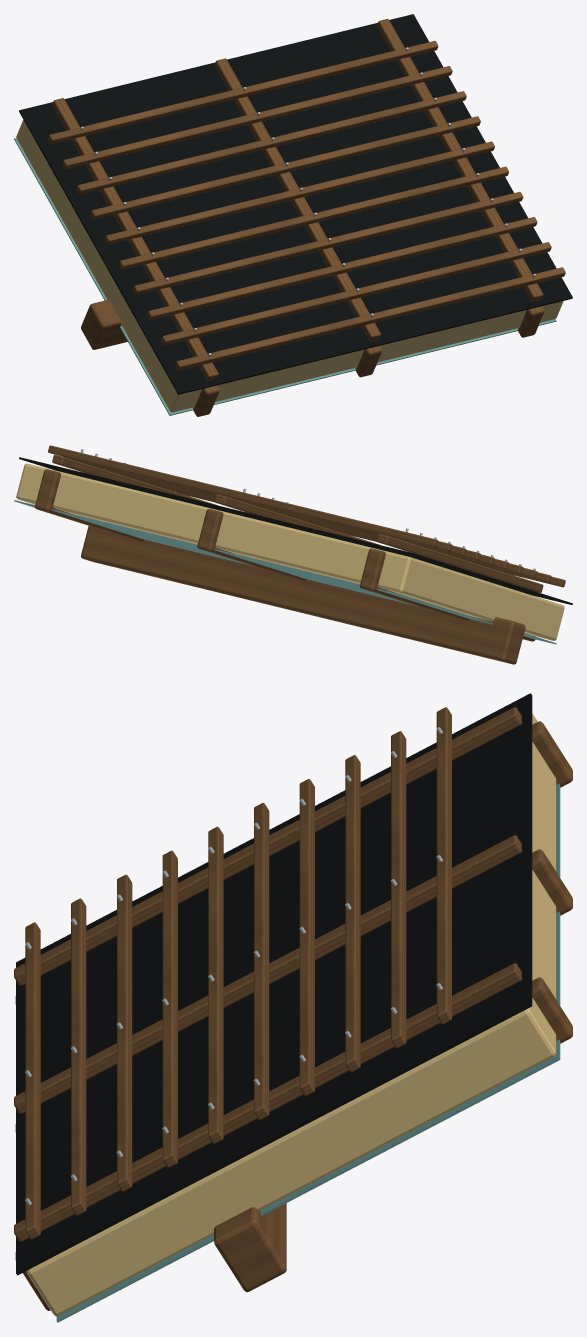
Rendered from modell.glb.
The picture shows the model from 3 angles, top to bottom: view 1: azimuth 30°, elevation 25°; view 2: azimuth 150°, elevation 25°; view 3: azimuth 270°, elevation 25°; orthographic projection. The views are drawn at different scales.
Parts seen in each view (by area): view 1: g02-zusatzebene_zusatzebene, g02-lattung_lattung, g02-daemmung_daemmung, g02-luftdichtheit_luftdichtheit, g02-sparren_tragwerk, g02-pfette_tragwerk; view 2: g02-daemmung_daemmung, g02-pfette_tragwerk, g02-lattung_lattung, g02-sparren_tragwerk, g02-zusatzebene_zusatzebene, g02-luftdichtheit_luftdichtheit; view 3: g02-zusatzebene_zusatzebene, g02-lattung_lattung, g02-daemmung_daemmung, g02-pfette_tragwerk, g02-luftdichtheit_luftdichtheit, g02-sparren_tragwerk, g02-befestigung_lattung.
Part boxes in pixels (x1,y1,x2,y2): g02-zusatzebene_zusatzebene: [19, 14, 572, 394]; g02-lattung_lattung: [48, 18, 565, 380]; g02-daemmung_daemmung: [16, 120, 563, 412]; g02-luftdichtheit_luftdichtheit: [14, 138, 556, 415]; g02-sparren_tragwerk: [193, 306, 544, 416]; g02-pfette_tragwerk: [81, 299, 127, 349]; g02-daemmung_daemmung: [16, 463, 564, 640]; g02-pfette_tragwerk: [81, 526, 525, 664]; g02-lattung_lattung: [48, 445, 565, 592]; g02-sparren_tragwerk: [35, 469, 535, 641]; g02-zusatzebene_zusatzebene: [19, 457, 572, 605]; g02-luftdichtheit_luftdichtheit: [14, 500, 556, 644]; g02-zusatzebene_zusatzebene: [16, 693, 532, 1275]; g02-lattung_lattung: [14, 707, 521, 1242]; g02-daemmung_daemmung: [27, 713, 556, 1316]; g02-pfette_tragwerk: [214, 1203, 286, 1292]; g02-luftdichtheit_luftdichtheit: [56, 783, 560, 1322]; g02-sparren_tragwerk: [15, 721, 572, 1310]; g02-befestigung_lattung: [25, 727, 442, 1205].
Bounding box in the file's own units: 2.25 × 1.07 × 1.59.
Materials: 5 (1 with a texture image).
